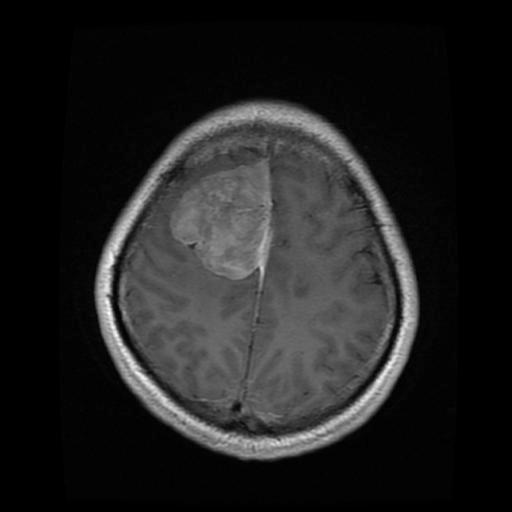Tumour-Meningioma: (175, 155, 295, 320)
